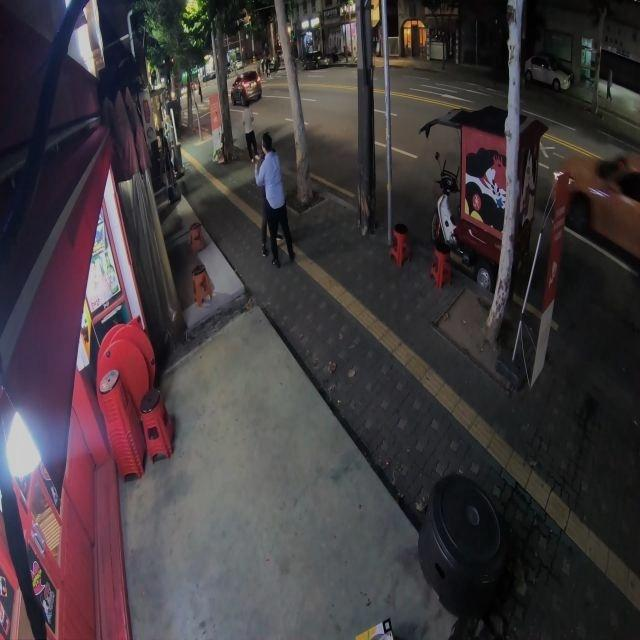fight: (250, 132, 294, 266)
non-fight: (242, 104, 259, 162)
